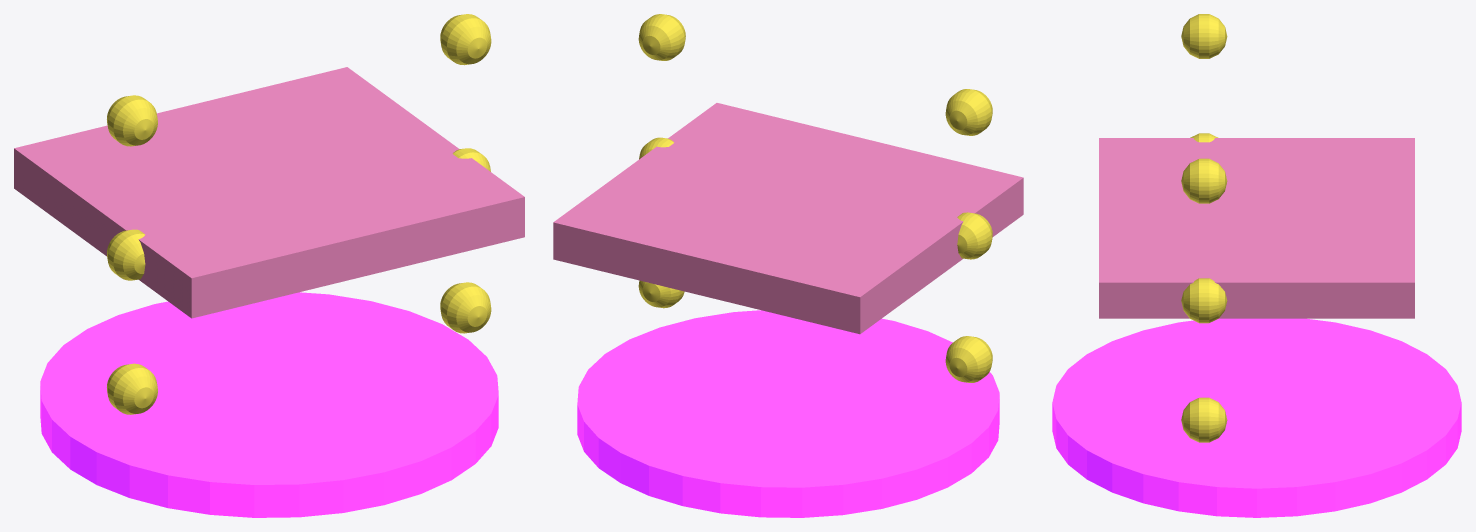
The model's file is modelling_vanity_mirror.glb.
The picture shows the model from 3 angles, left to right: view 1: azimuth 30°, elevation 25°; view 2: azimuth 150°, elevation 25°; view 3: azimuth 270°, elevation 25°; orthographic projection. The views are drawn at different scales.
Parts seen in each view (by area): view 1: 05_07_Popular_Modelling_Vanity_Mirror_ROOT_base, 05_07_Popular_Modelling_Vanity_Mirror_part_01, 05_07_Popular_Modelling_Vanity_Mirror_part_06, 05_07_Popular_Modelling_Vanity_Mirror_part_08, 05_07_Popular_Modelling_Vanity_Mirror_part_05, 05_07_Popular_Modelling_Vanity_Mirror_part_03, 05_07_Popular_Modelling_Vanity_Mirror_part_04; view 2: 05_07_Popular_Modelling_Vanity_Mirror_ROOT_base, 05_07_Popular_Modelling_Vanity_Mirror_part_01, 05_07_Popular_Modelling_Vanity_Mirror_part_03, 05_07_Popular_Modelling_Vanity_Mirror_part_05, 05_07_Popular_Modelling_Vanity_Mirror_part_08, 05_07_Popular_Modelling_Vanity_Mirror_part_04, 05_07_Popular_Modelling_Vanity_Mirror_part_06; view 3: 05_07_Popular_Modelling_Vanity_Mirror_ROOT_base, 05_07_Popular_Modelling_Vanity_Mirror_part_01, 05_07_Popular_Modelling_Vanity_Mirror_part_06, 05_07_Popular_Modelling_Vanity_Mirror_part_08, 05_07_Popular_Modelling_Vanity_Mirror_part_05, 05_07_Popular_Modelling_Vanity_Mirror_part_07.
Boxes of the visible parts, <box> form: 05_07_Popular_Modelling_Vanity_Mirror_ROOT_base: <box>40,292,498,517</box>; 05_07_Popular_Modelling_Vanity_Mirror_part_01: <box>14,67,524,318</box>; 05_07_Popular_Modelling_Vanity_Mirror_part_06: <box>440,282,491,333</box>; 05_07_Popular_Modelling_Vanity_Mirror_part_08: <box>440,14,491,65</box>; 05_07_Popular_Modelling_Vanity_Mirror_part_05: <box>107,95,157,146</box>; 05_07_Popular_Modelling_Vanity_Mirror_part_03: <box>107,363,157,414</box>; 05_07_Popular_Modelling_Vanity_Mirror_part_04: <box>107,229,145,280</box>; 05_07_Popular_Modelling_Vanity_Mirror_ROOT_base: <box>577,310,999,517</box>; 05_07_Popular_Modelling_Vanity_Mirror_part_01: <box>553,103,1023,334</box>; 05_07_Popular_Modelling_Vanity_Mirror_part_03: <box>945,336,992,382</box>; 05_07_Popular_Modelling_Vanity_Mirror_part_05: <box>945,89,992,135</box>; 05_07_Popular_Modelling_Vanity_Mirror_part_08: <box>638,14,685,60</box>; 05_07_Popular_Modelling_Vanity_Mirror_part_04: <box>957,212,992,259</box>; 05_07_Popular_Modelling_Vanity_Mirror_part_06: <box>638,280,684,308</box>; 05_07_Popular_Modelling_Vanity_Mirror_ROOT_base: <box>1052,318,1461,517</box>; 05_07_Popular_Modelling_Vanity_Mirror_part_01: <box>1099,138,1414,318</box>; 05_07_Popular_Modelling_Vanity_Mirror_part_06: <box>1181,397,1227,442</box>; 05_07_Popular_Modelling_Vanity_Mirror_part_08: <box>1181,158,1227,203</box>; 05_07_Popular_Modelling_Vanity_Mirror_part_05: <box>1181,14,1227,58</box>; 05_07_Popular_Modelling_Vanity_Mirror_part_07: <box>1181,278,1227,323</box>.
Size of the model in its own units: 0.76 by 0.7031 by 0.76.
